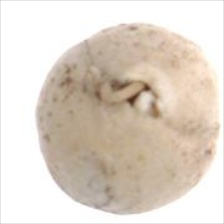L3: (87, 66, 164, 123)
L4: (35, 23, 218, 215)
